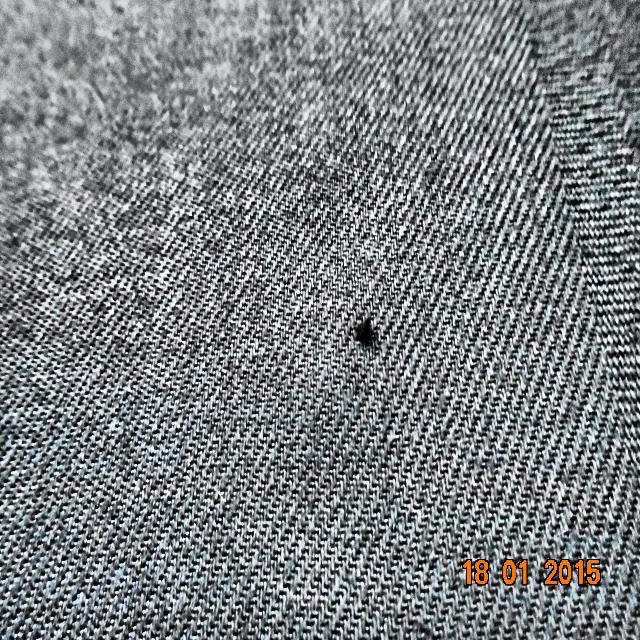Hole: (330, 281, 399, 386)
